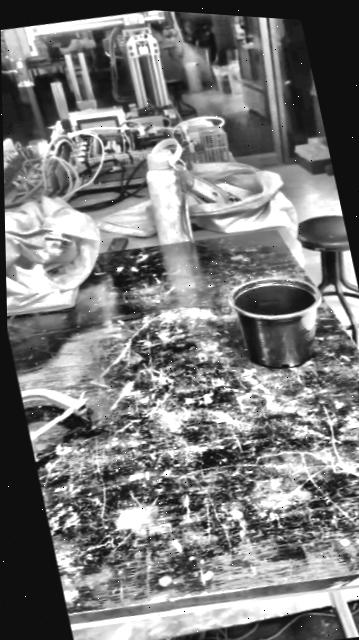pot: (226, 267, 334, 378)
